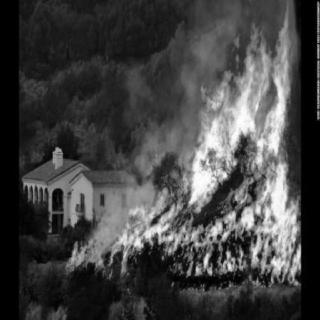Fire: (70, 11, 302, 293)
